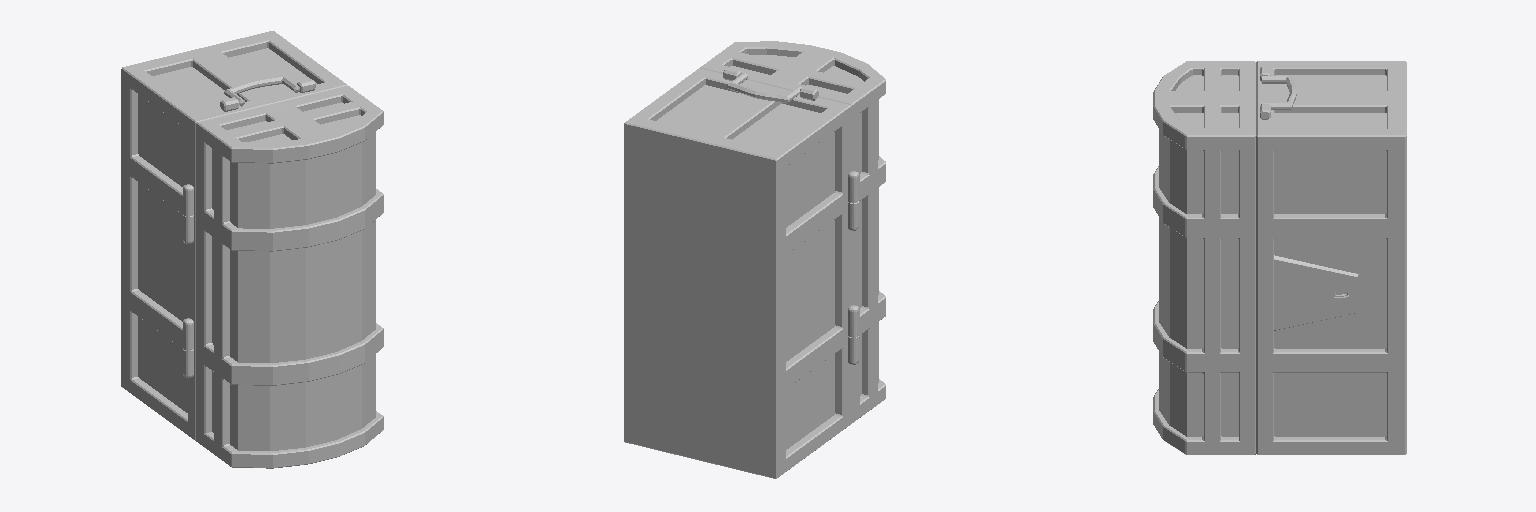
File: TreasureBox.obj
3 renders of one model, left to right at view 1: azimuth 30°, elevation 25°; view 2: azimuth 150°, elevation 25°; view 3: azimuth 270°, elevation 25°, orthographic.
Visible parts, largest first — view 1: SM_Chest_chest_bot.001; view 2: SM_Chest_chest_bot.001; view 3: SM_Chest_chest_bot.001.
Part boxes in pixels (x1,y1,x2,y2): SM_Chest_chest_bot.001: (121,31,383,468); SM_Chest_chest_bot.001: (624,41,885,478); SM_Chest_chest_bot.001: (1153,61,1406,454).
Bounding box in the file's own units: 1.06 × 2.12 × 1.43.